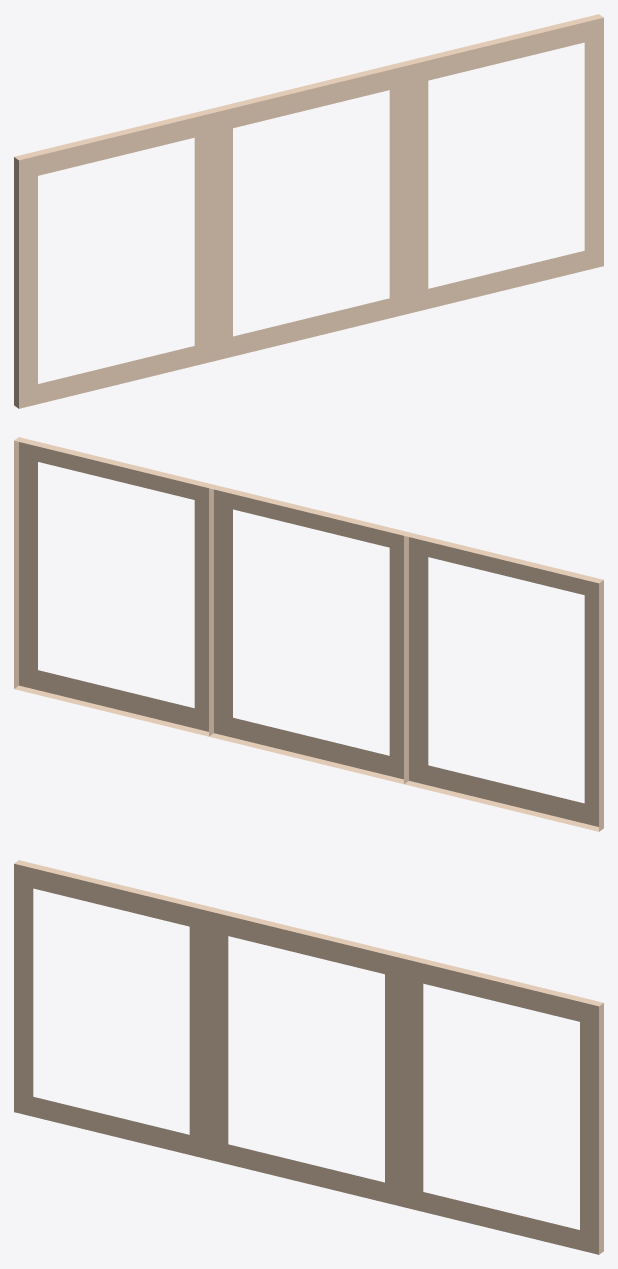
File: original-1.obj
The picture shows the model from 3 angles, top to bottom: view 1: azimuth 30°, elevation 25°; view 2: azimuth 150°, elevation 25°; view 3: azimuth 330°, elevation 25°; orthographic projection.
Visible parts, largest first — view 1: #ID2; view 2: #ID2; view 3: #ID2.
Boxes of the visible parts, left/top/right/bottom form: #ID2: left=14, top=14, right=603, bottom=408; #ID2: left=14, top=437, right=603, bottom=831; #ID2: left=14, top=860, right=603, bottom=1254.
Bounding box in the file's own units: 1.02 × 0.4148 × 0.0148.
